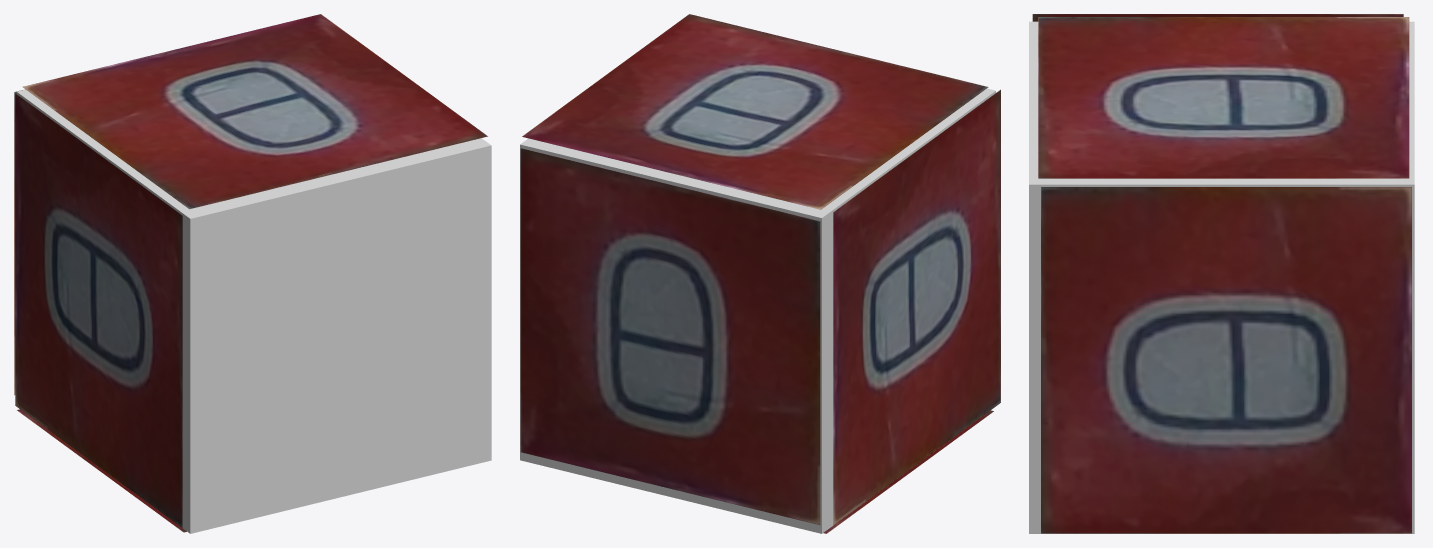
3 renders of one model, left to right at view 1: azimuth 30°, elevation 25°; view 2: azimuth 150°, elevation 25°; view 3: azimuth 270°, elevation 25°, orthographic. The views are drawn at different scales.
Visible parts, largest first — view 1: Link28, R1.002, R1.004, R1.005, R1.001; view 2: R1.001, R1.002, R1.004, Link28, R1.005; view 3: R1.003, R1.004, Link28, R1.002.
Part boxes in pixels (x1,y1,x2,y2): Link28: [16, 89, 491, 533]; R1.002: [15, 93, 182, 527]; R1.004: [22, 14, 487, 209]; R1.005: [17, 409, 186, 532]; R1.001: [14, 89, 25, 395]; R1.001: [520, 148, 820, 524]; R1.002: [833, 89, 1000, 524]; R1.004: [522, 14, 988, 209]; Link28: [520, 88, 995, 533]; R1.005: [823, 410, 993, 533]; R1.003: [1041, 187, 1411, 533]; R1.004: [1038, 17, 1409, 178]; Link28: [1029, 21, 1414, 533]; R1.002: [1032, 14, 1403, 21].
Size of the model in its own units: 0.3585 by 0.3539 by 0.3577.
Materials: 1 (1 with a texture image).
